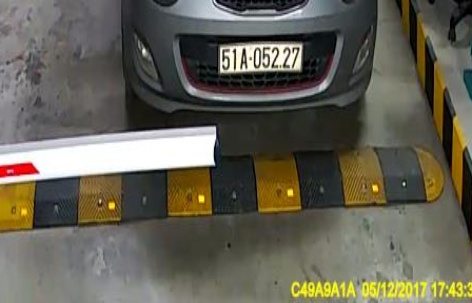plate: (214, 37, 310, 82)
